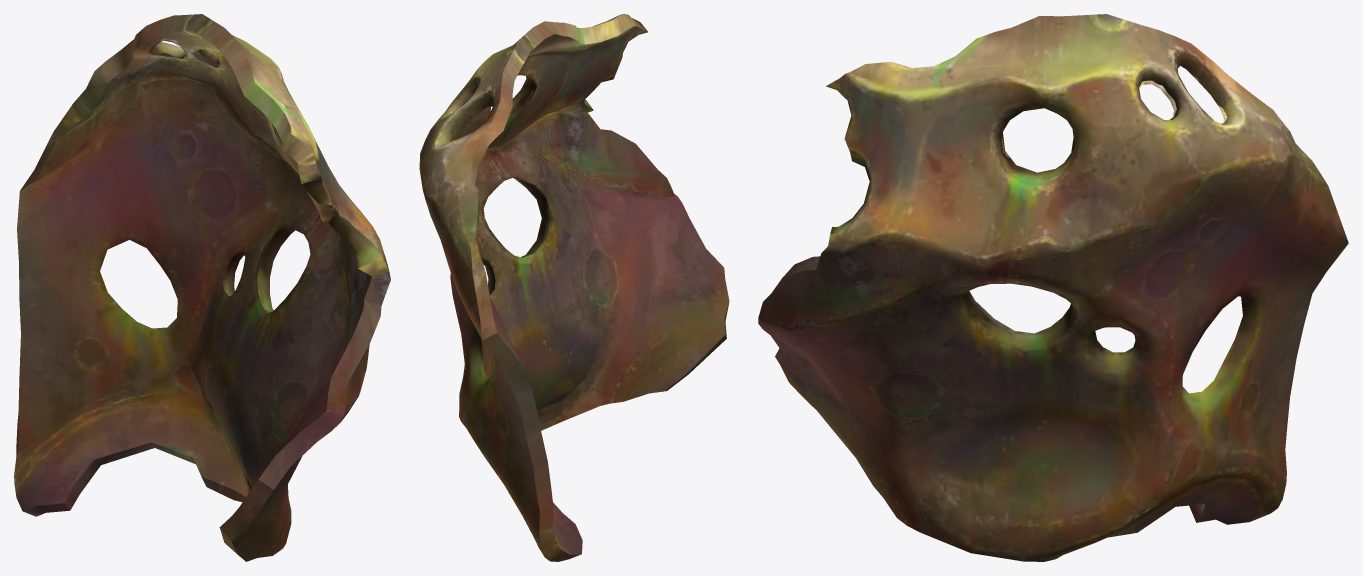
The picture shows the model from 3 angles, left to right: view 1: azimuth 30°, elevation 25°; view 2: azimuth 150°, elevation 25°; view 3: azimuth 270°, elevation 25°; orthographic projection. The views are drawn at different scales.
Visible parts, largest first — view 1: SM_Poison_Rock_Piece_03_LOD0; view 2: SM_Poison_Rock_Piece_03_LOD0; view 3: SM_Poison_Rock_Piece_03_LOD0.
Boxes of the visible parts, box(x1,y1,x2,y2) form: SM_Poison_Rock_Piece_03_LOD0: box(14, 14, 390, 561); SM_Poison_Rock_Piece_03_LOD0: box(419, 14, 729, 561); SM_Poison_Rock_Piece_03_LOD0: box(758, 14, 1348, 561).
Bounding box in the file's own units: 1.16 × 2.58 × 2.42.
1 material, 1 textured.
